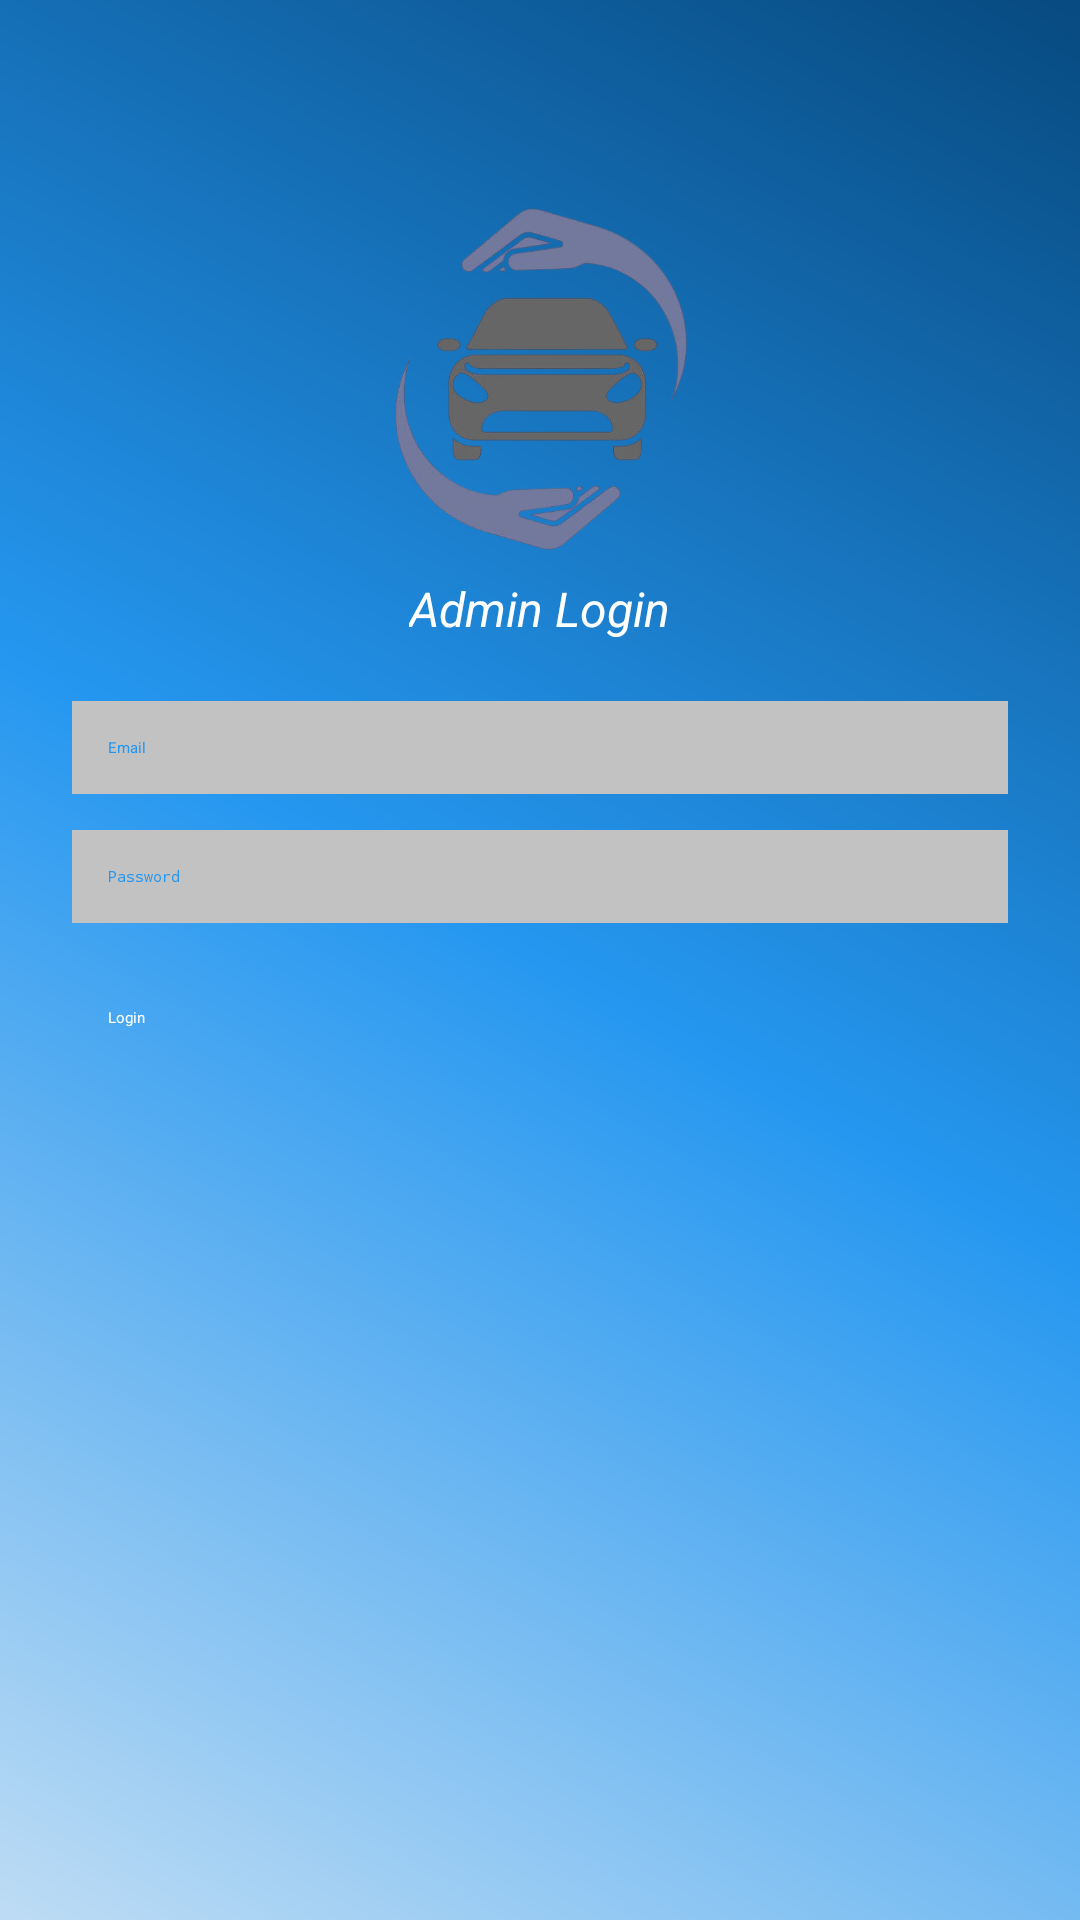

Locate icon controls on the screen. Image size 1080 x 1920, boxes as (x1, y1, x2, y2).
App Icon: (360, 192, 720, 552)
